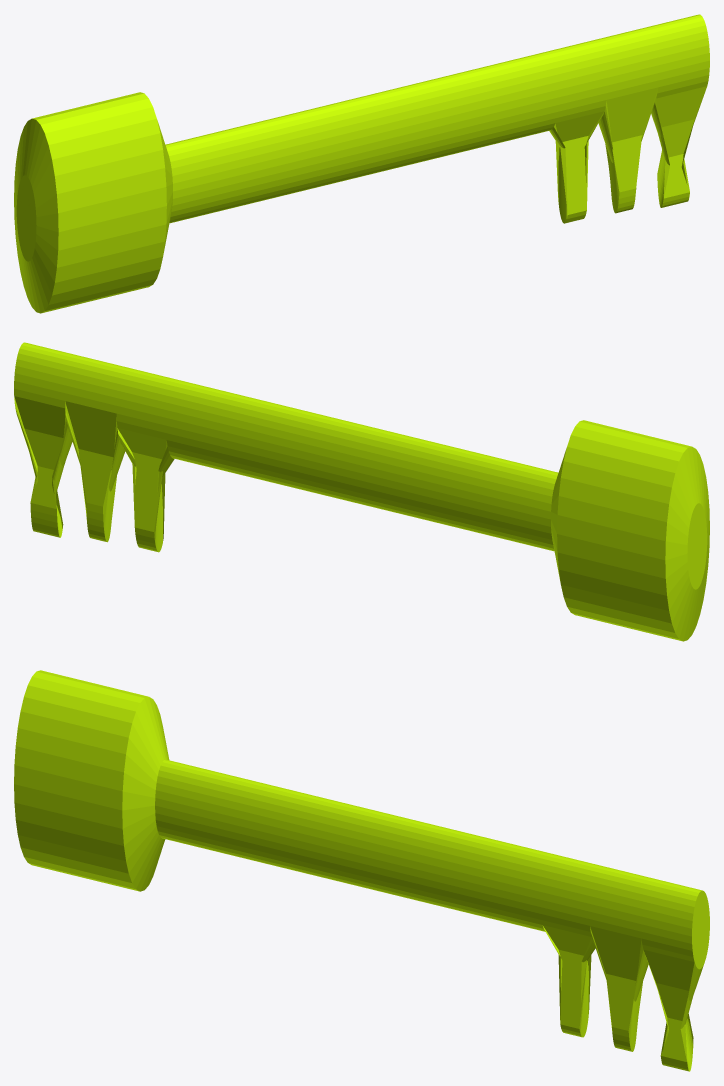
File: key_002.fbx
The picture shows the model from 3 angles, top to bottom: view 1: azimuth 30°, elevation 25°; view 2: azimuth 150°, elevation 25°; view 3: azimuth 330°, elevation 25°; orthographic projection.
Visible parts, largest first — view 1: Key; view 2: Key; view 3: Key.
Boxes of the visible parts, x1,y1,x2,y2 form: Key: (14,14,709,313); Key: (14,342,709,641); Key: (14,670,709,1071).
Size of the model in its own units: 1813 by 621 by 208.
